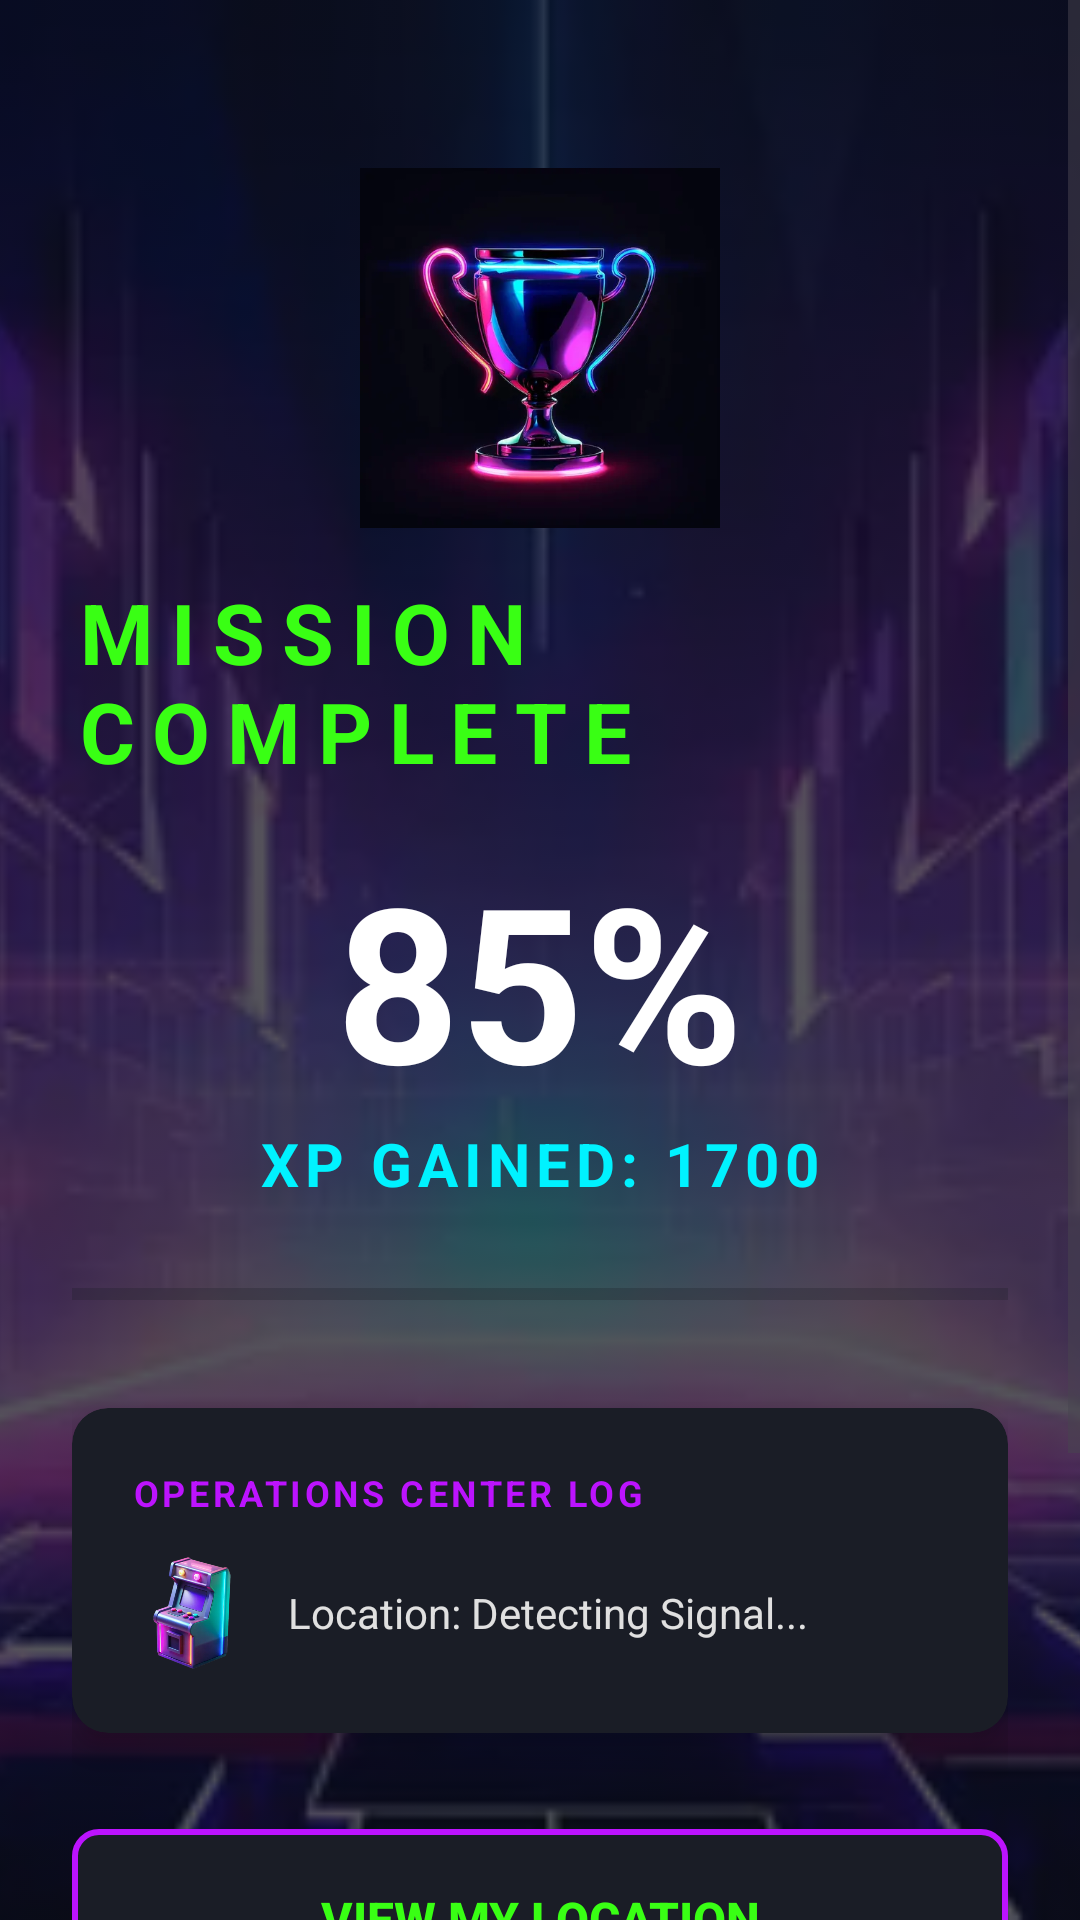

Screen size 1080×1920. Icon name, then its center in pixels as point (x, y):
trophy: point (540, 348)
